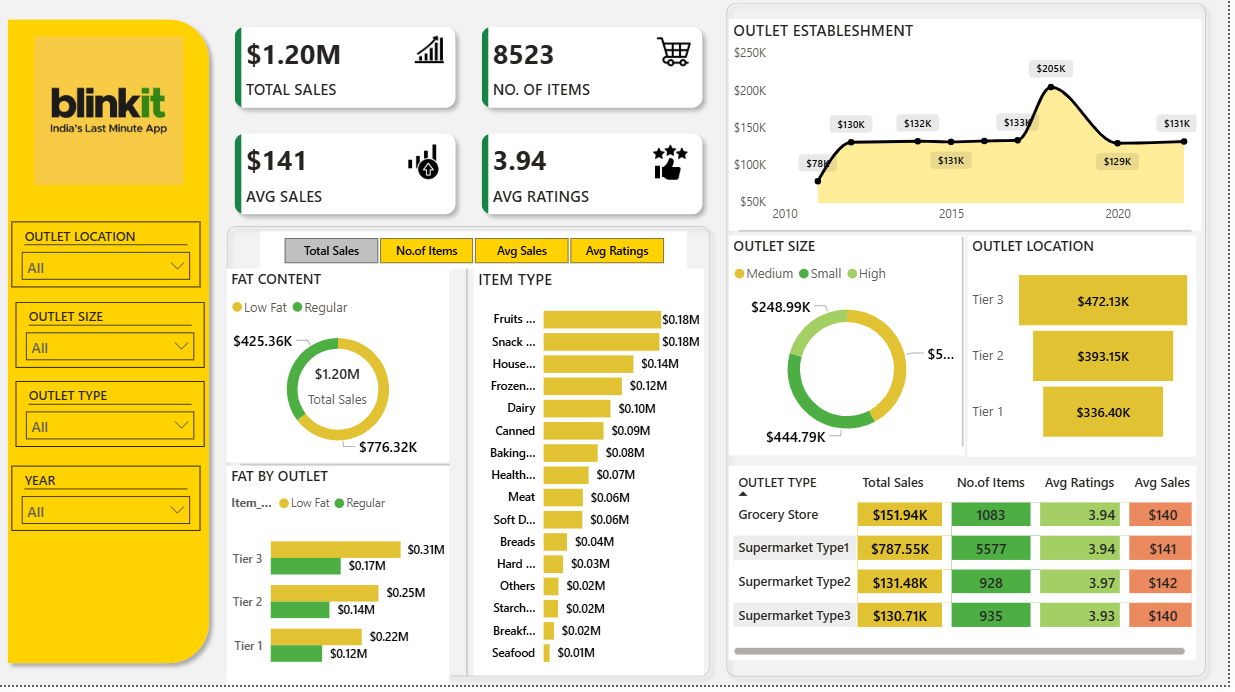

The dashboard page shown, as its layout file describes it:
{"tool":"powerbi","page":{"name":"Home","canvas":[1280,720],"ordinal":0},"visuals":[{"type":"shape","box":[0,17.8,227.8,688.9],"z":0},{"type":"cardVisual","fields":{"Data":["All Measures.Total Sales","All Measures.No.of Items","All Measures.Avg Sales","All Measures.Avg Ratings"]},"box":[227.8,17.8,521.4,229.2],"z":2000},{"type":"shape","box":[227.8,233.3,521.4,487.1],"z":3000},{"type":"slicer","fields":{"Values":["Sales Parameters.Sales Parameters"]},"box":[271.7,247,444.6,39.8],"z":4000},{"type":"donutChart","title":"FAT CONTENT","fields":{"Y":["All Measures.Total Sales"],"Category":["BlinkIT Grocery Data.Item_Fat_Content"]},"box":[237.4,286.8,231.9,201.7],"z":5000},{"type":"card","fields":{"Values":["All Measures.Total Sales"]},"box":[301,377.3,103.5,59.9],"z":6000},{"type":"clusteredBarChart","title":"FAT BY OUTLET","fields":{"Y":["All Measures.Total Sales"],"Category":["BlinkIT Grocery Data.Outlet_Location_Type"],"Series":["BlinkIT Grocery Data.Item_Fat_Content"]},"box":[237.4,491.3,231.9,229.2],"z":7000},{"type":"shape","box":[251.1,481.6,218.2,17.8],"z":8000},{"type":"shape","box":[481.6,286.8,12.3,424],"z":9000},{"type":"clusteredBarChart","title":"ITEM TYPE","fields":{"Y":["All Measures.Total Sales"],"Category":["BlinkIT Grocery Data.Item_Type"]},"box":[494,286.8,240.1,424],"z":10000},{"type":"shape","box":[749.2,0,517.6,720.2],"z":11000},{"type":"lineChart","title":"OUTLET ESTABLESHMENT","fields":{"Y":["All Measures.Total Sales"],"Category":["BlinkIT Grocery Data.Outlet_Establishment_Year"]},"box":[760.1,26.5,492.2,220.8],"z":12000},{"type":"donutChart","title":"OUTLET SIZE","fields":{"Category":["BlinkIT Grocery Data.Outlet_Size"],"Y":["All Measures.Total Sales"]},"box":[760.1,252.1,246.1,229.2],"z":13000},{"type":"shape","box":[769.7,237.7,471.7,19.3],"z":14000},{"type":"funnel","title":"OUTLET LOCATION","fields":{"Category":["BlinkIT Grocery Data.Outlet_Location_Type"],"Y":["All Measures.Total Sales"]},"box":[1008.6,250.9,238.9,230.4],"z":15000},{"type":"shape","box":[997.7,253.4,13.3,218.4],"z":16000},{"type":"pivotTable","fields":{"Rows":["BlinkIT Grocery Data.Outlet_Type"],"Values":["All Measures.Total Sales","All Measures.No.of Items","All Measures.Avg Ratings","All Measures.Avg Sales"]},"box":[760.1,491,487.4,202.7],"z":17000},{"type":"slicer","fields":{"Values":["BlinkIT Grocery Data.Outlet_Location_Type"]},"box":[13.3,237.7,196.6,68.8],"z":18000},{"type":"slicer","fields":{"Values":["BlinkIT Grocery Data.Outlet_Size"]},"box":[16.9,320.3,196.6,68.8],"z":19000},{"type":"slicer","fields":{"Values":["BlinkIT Grocery Data.Outlet_Type"]},"box":[16.9,403,196.6,68.8],"z":20000},{"type":"image","box":[0,39,228.4,164.8],"z":20001},{"type":"slicer","fields":{"Values":["BlinkIT Grocery Data.Outlet_Establishment_Year"]},"box":[13,491.4,196.6,67.9],"z":20002}]}

Visuals, with their boxes in screenshot pixels (x1, y1, x2, y2), scaled from the page's 1280x720 canvas onto the 1235x692 screenshot:
shape: bbox=(0, 17, 220, 679)
cardVisual - All Measures.Total Sales x All Measures.No.of Items: bbox=(220, 17, 723, 237)
shape: bbox=(220, 224, 723, 691)
slicer - Sales Parameters.Sales Parameters: bbox=(262, 237, 691, 276)
"FAT CONTENT" donutChart: bbox=(229, 276, 453, 470)
card - All Measures.Total Sales: bbox=(290, 363, 390, 420)
"FAT BY OUTLET" clusteredBarChart: bbox=(229, 472, 453, 691)
shape: bbox=(242, 463, 453, 480)
shape: bbox=(465, 276, 477, 683)
"ITEM TYPE" clusteredBarChart: bbox=(477, 276, 708, 683)
shape: bbox=(723, 0, 1222, 691)
"OUTLET ESTABLESHMENT" lineChart: bbox=(733, 25, 1208, 238)
"OUTLET SIZE" donutChart: bbox=(733, 242, 971, 463)
shape: bbox=(743, 228, 1198, 247)
"OUTLET LOCATION" funnel: bbox=(973, 241, 1204, 463)
shape: bbox=(963, 244, 975, 453)
pivotTable - BlinkIT Grocery Data.Outlet_Type x All Measures.Total Sales: bbox=(733, 472, 1204, 667)
slicer - BlinkIT Grocery Data.Outlet_Location_Type: bbox=(13, 228, 203, 295)
slicer - BlinkIT Grocery Data.Outlet_Size: bbox=(16, 308, 206, 374)
slicer - BlinkIT Grocery Data.Outlet_Type: bbox=(16, 387, 206, 453)
image: bbox=(0, 37, 220, 196)
slicer - BlinkIT Grocery Data.Outlet_Establishment_Year: bbox=(13, 472, 202, 538)
